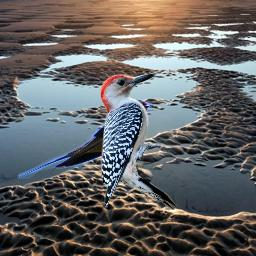Swallow: (17, 99, 152, 179)
Woodpecker: (93, 67, 185, 220)
